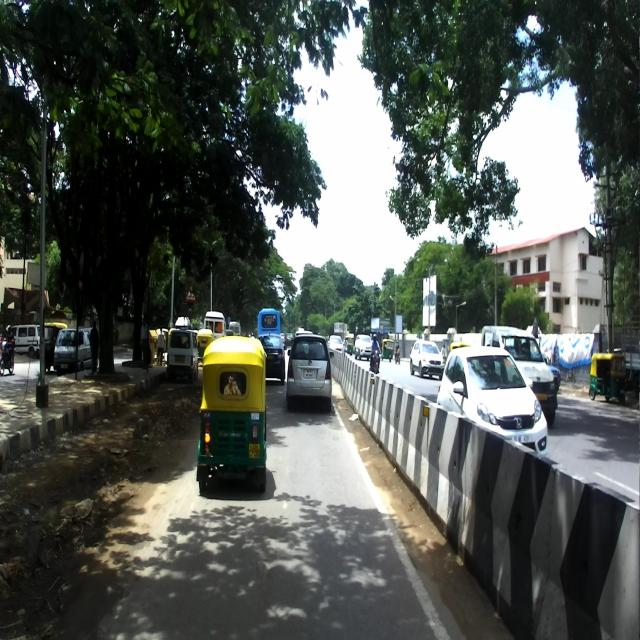Car_Honda: (437, 344, 548, 460)
Car_Toyota: (285, 331, 335, 412)
autorickshaw: (196, 335, 267, 495)
